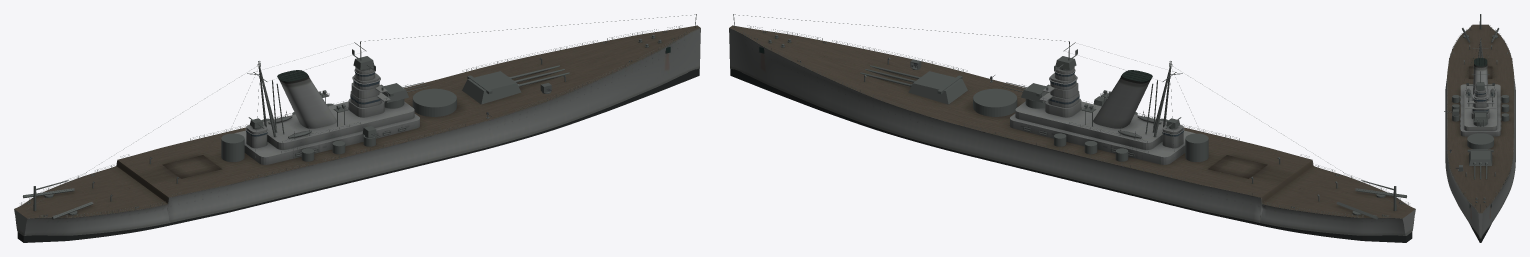
Rendered from yamato-bb.glb.
3 renders of one model, left to right at view 1: azimuth 30°, elevation 25°; view 2: azimuth 150°, elevation 25°; view 3: azimuth 270°, elevation 25°, orthographic. The views are drawn at different scales.
Visible parts, largest first — view 1: Hull, Skirt, Kit_turret-18in-triple, Kit_turret-18in-triple_Guns; view 2: Hull, Skirt, Kit_turret-18in-triple, Kit_turret-18in-triple_Guns; view 3: Hull, Kit_turret-18in-triple, Kit_turret-155mm-triple, Kit_turret-18in-triple_Guns, Skirt, Kit_mount-127mm-twin-ijn.
Boxes of the visible parts, x1,y1,x2,y2 form: Hull: (14,14,700,235); Skirt: (17,69,699,242); Kit_turret-18in-triple: (462,71,521,104); Kit_turret-18in-triple_Guns: (509,65,569,86); Hull: (729,14,1415,235); Skirt: (730,68,1412,242); Kit_turret-18in-triple: (908,71,967,104); Kit_turret-18in-triple_Guns: (860,65,920,86); Hull: (1445,14,1515,238); Kit_turret-18in-triple: (1467,149,1493,165); Kit_turret-155mm-triple: (1473,111,1487,122); Kit_turret-18in-triple_Guns: (1474,164,1487,179); Skirt: (1470,224,1491,242); Kit_mount-127mm-twin-ijn: (1452,109,1459,116).
Size of the model in its own units: 263 by 44.94 by 39.63.
Materials: 4 (1 with a texture image).
